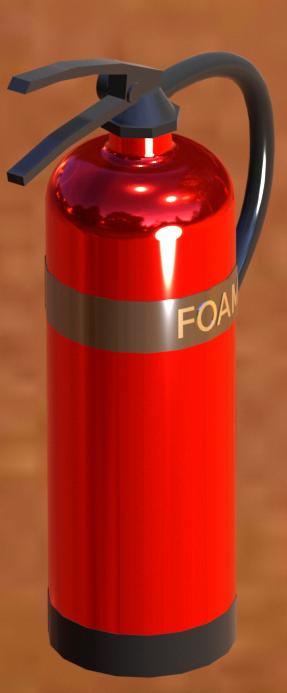fire_extinguisher: (0, 1, 287, 693)
